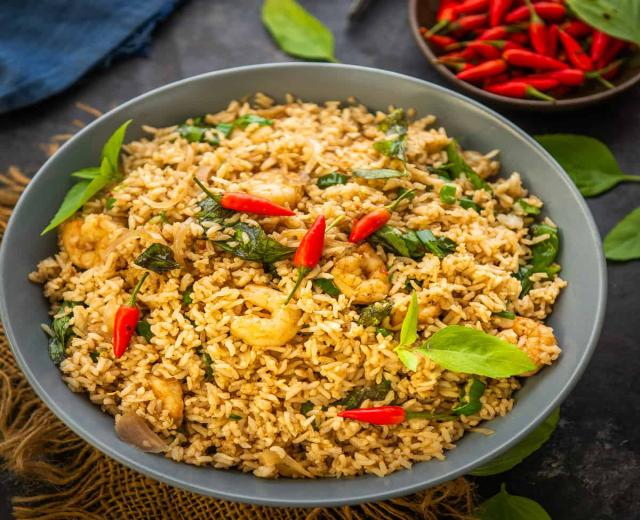fried rice: (31, 94, 563, 482), (410, 0, 639, 114)
